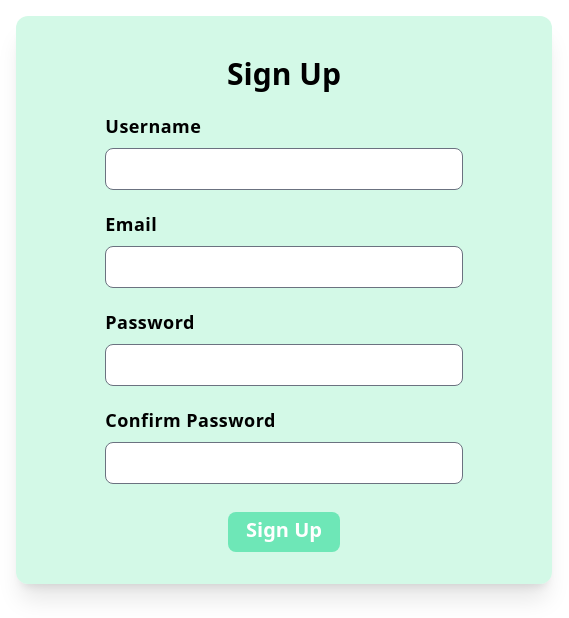
it: SignUpPage › Interactions › displays spinner while the api request is in progress
Type "user1" into the field labelled "Username".
click(284, 169); type("user1")  # box x1=105 y1=148 x2=463 y2=190
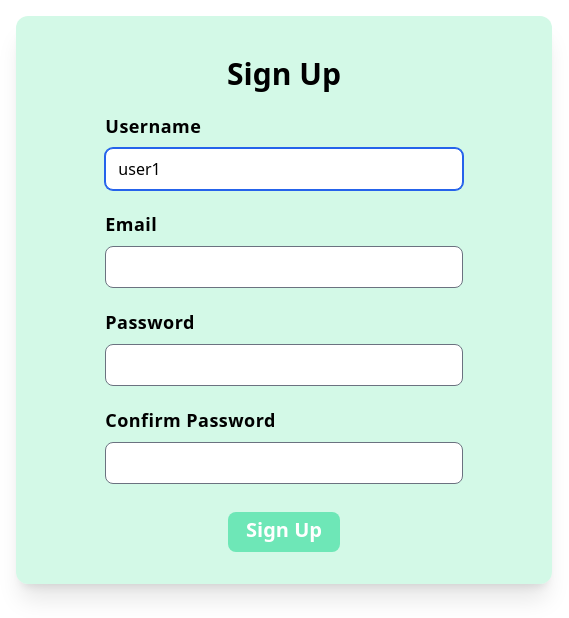
Type "user1@mail.com" into the field labelled "Email".
click(284, 267); type("user1@mail.com")  # box x1=105 y1=246 x2=463 y2=288
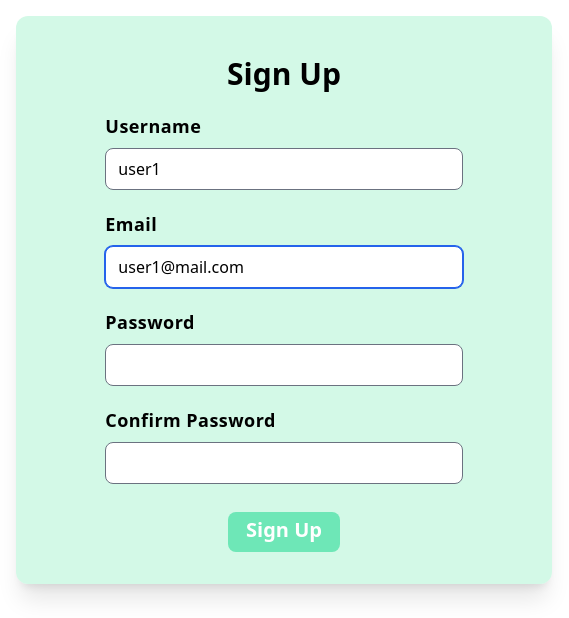
Type "P4ssword" into the password field labelled "Password".
click(284, 365); type("P4ssword")  # box x1=105 y1=344 x2=463 y2=386
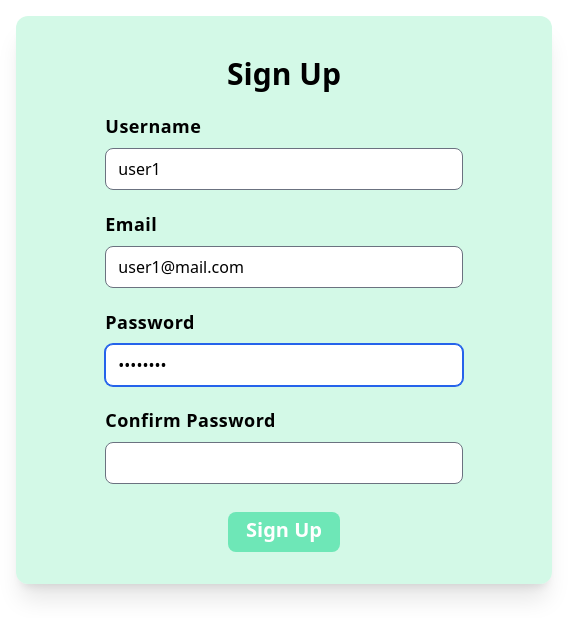
Type "P4ssword" into the password field labelled "Confirm Password".
click(284, 463); type("P4ssword")  # box x1=105 y1=442 x2=463 y2=484
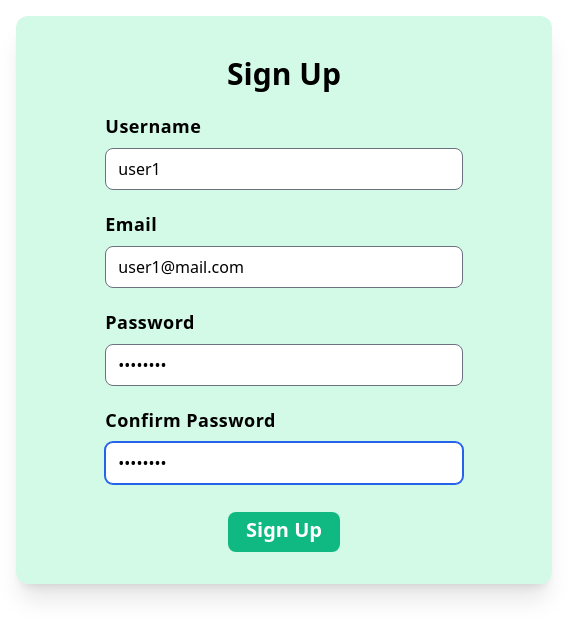
Click the button "Sign Up".
click(284, 532)  # box x1=228 y1=512 x2=340 y2=552
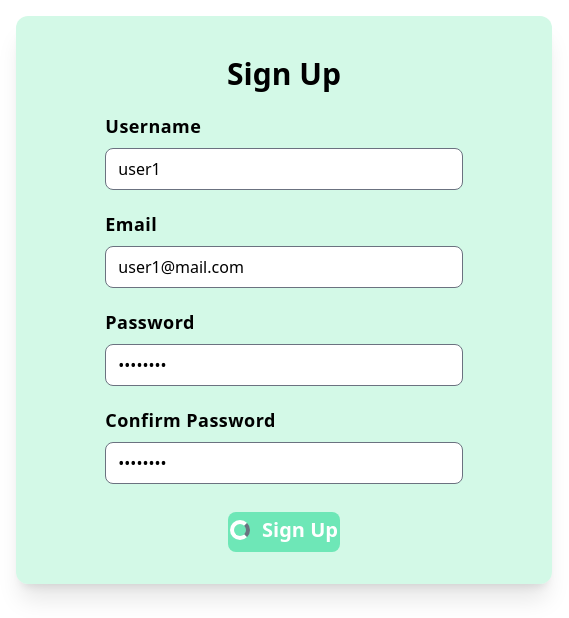
Expected: the message is shown, x1=230 y1=520 x2=250 y2=540
